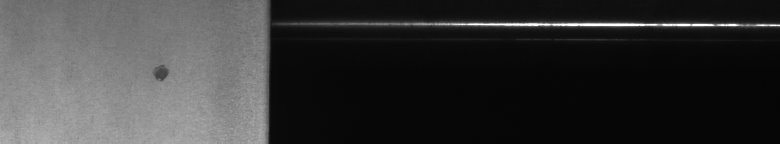fi: (148, 56, 173, 88)
